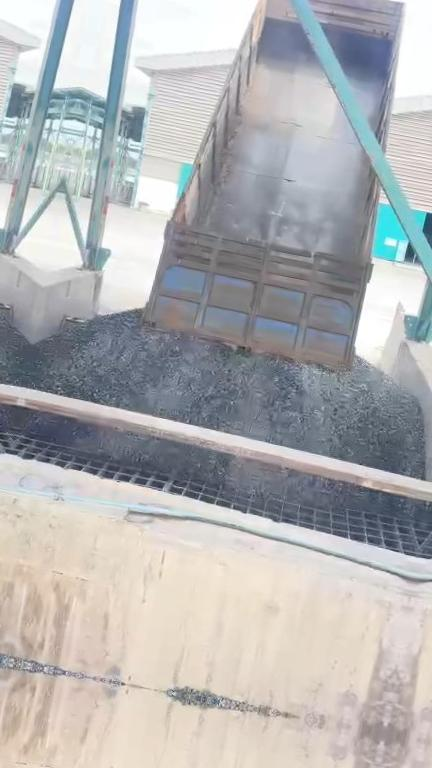gravel: (24, 310, 423, 476), (16, 412, 423, 519), (165, 688, 291, 716), (0, 650, 83, 676)
